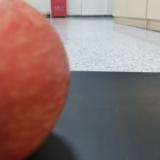apple: (1, 1, 69, 160)
